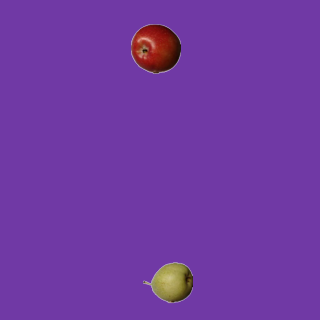Apple Braeburn: (130, 23, 180, 73)
Pear: (142, 257, 192, 307)
